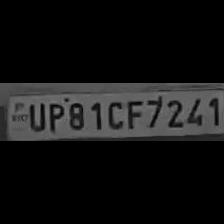1: (86, 99, 104, 131), (204, 95, 222, 127)
2: (164, 97, 182, 129)
4: (182, 96, 202, 127)
7: (143, 96, 161, 128)
8: (66, 100, 86, 132)
C: (104, 98, 124, 130)
F: (125, 98, 143, 130)
P: (46, 100, 64, 132)
U: (24, 100, 46, 132)
